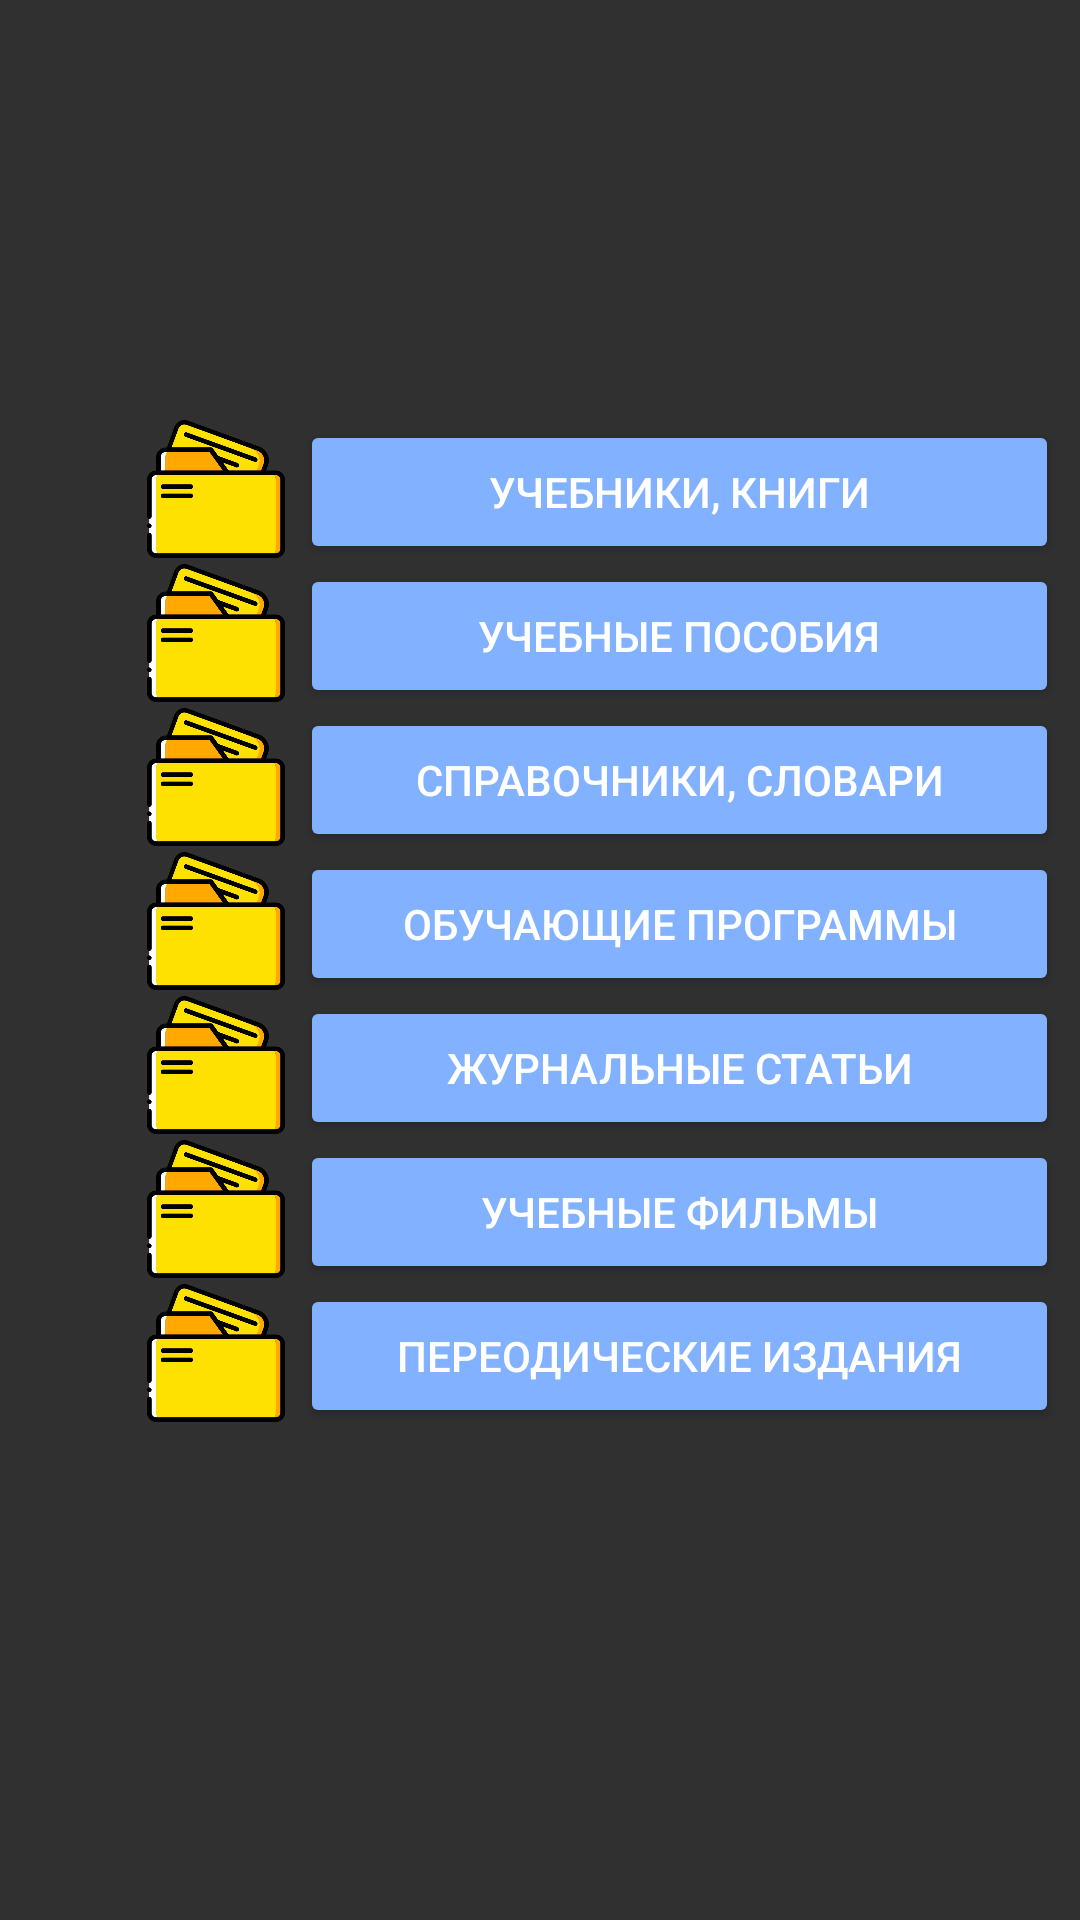

Icon click points for this 1080w x 1920h phone screenshot, format (x=x, y=y):
files: (x=216, y=489), (x=216, y=633), (x=216, y=777), (x=216, y=921), (x=216, y=1065), (x=216, y=1209), (x=216, y=1353)
